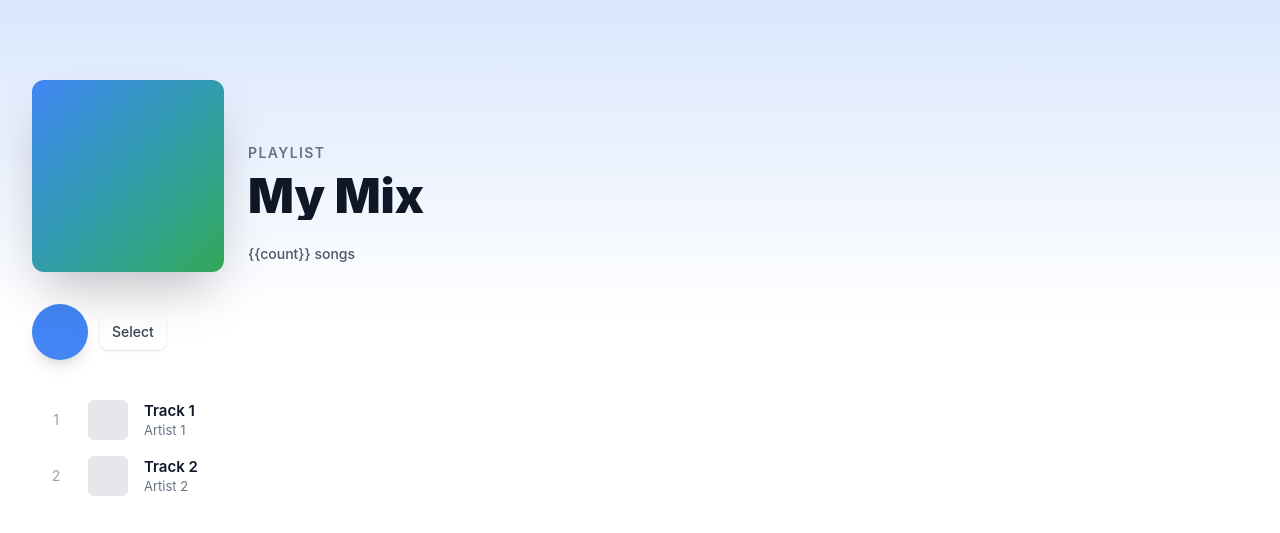
Test: PlaylistView playlist row menu + selection mode › bulk Remove selected keeps selection mode with an empty selection when rows remain
Step 1. Right-click the heading "Track 1" → [169, 410], box [144, 400, 195, 420]
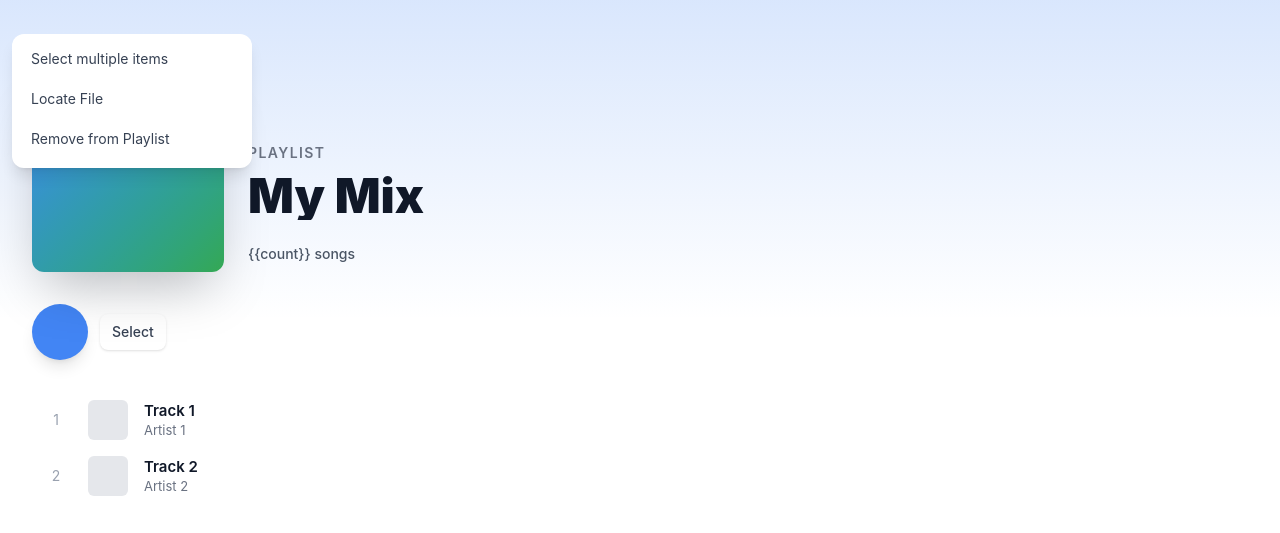
Step 2. Click the menu item "Select multiple items" → [132, 59], box [19, 41, 245, 77]
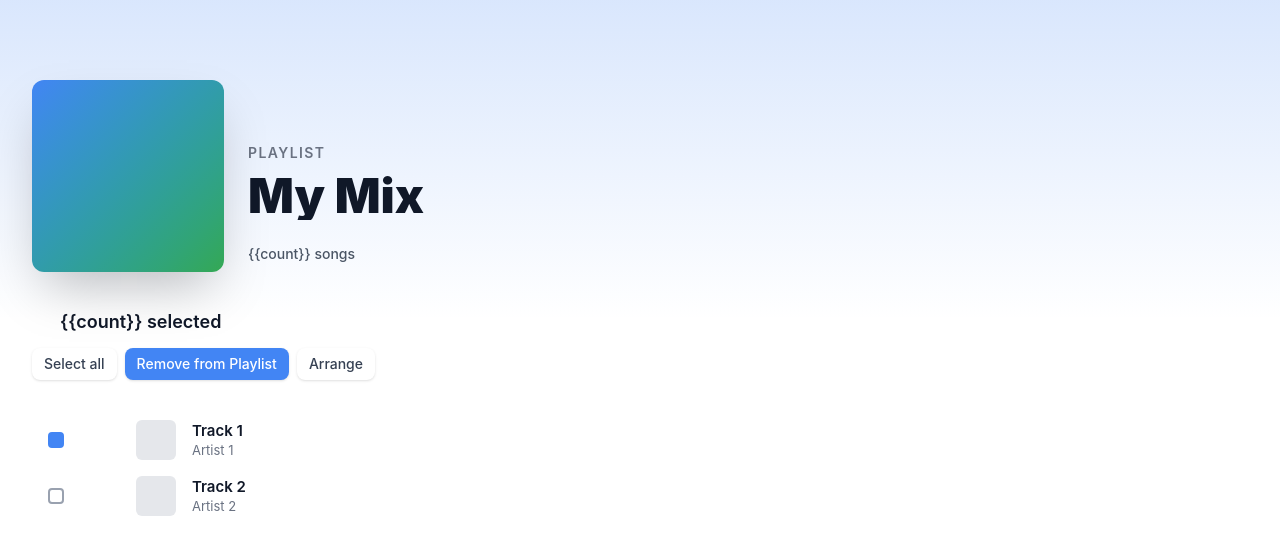
Step 3. Click the button with test id "queue-remove-selected" → [207, 364], box [125, 348, 289, 380]
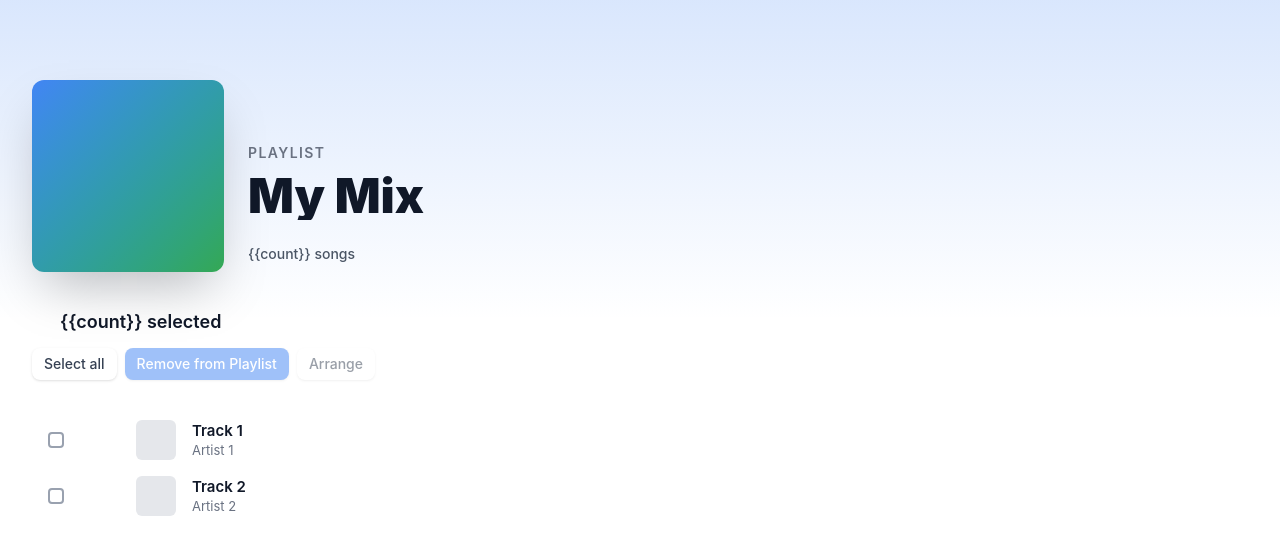
Expected: the element with test id "queue-selection-toolbar" is shown, [32, 311, 375, 380]
Expected: the checkbox named "Track 2" is not checked, [48, 488, 64, 504]
Expected: the checkbox named "Track 1" is not checked, [48, 432, 64, 448]
